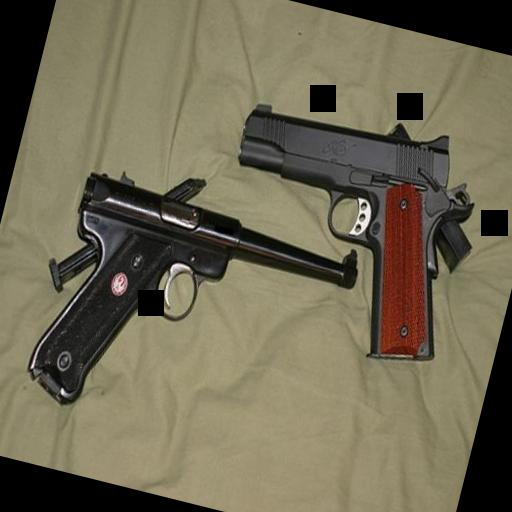Handgun: (16, 169, 368, 461), (190, 72, 490, 374)
